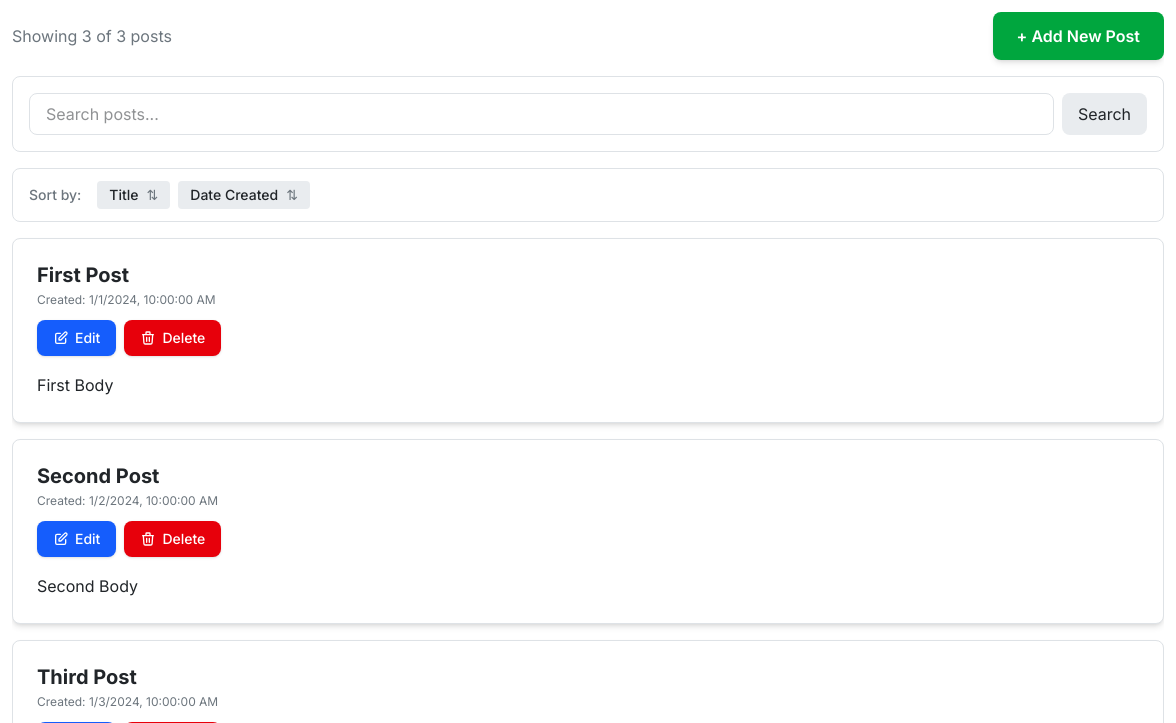
it: PostsTable Component › Empty State › should show "No posts found" when search returns no results
The width and height of the screenshot is (1176, 723).
Expected: the heading "First Post" is shown, [37, 263, 129, 287]
Type "NonExistentPost" into the field with placeholder "Search posts...". click: (541, 114)
box: [29, 93, 1054, 135]
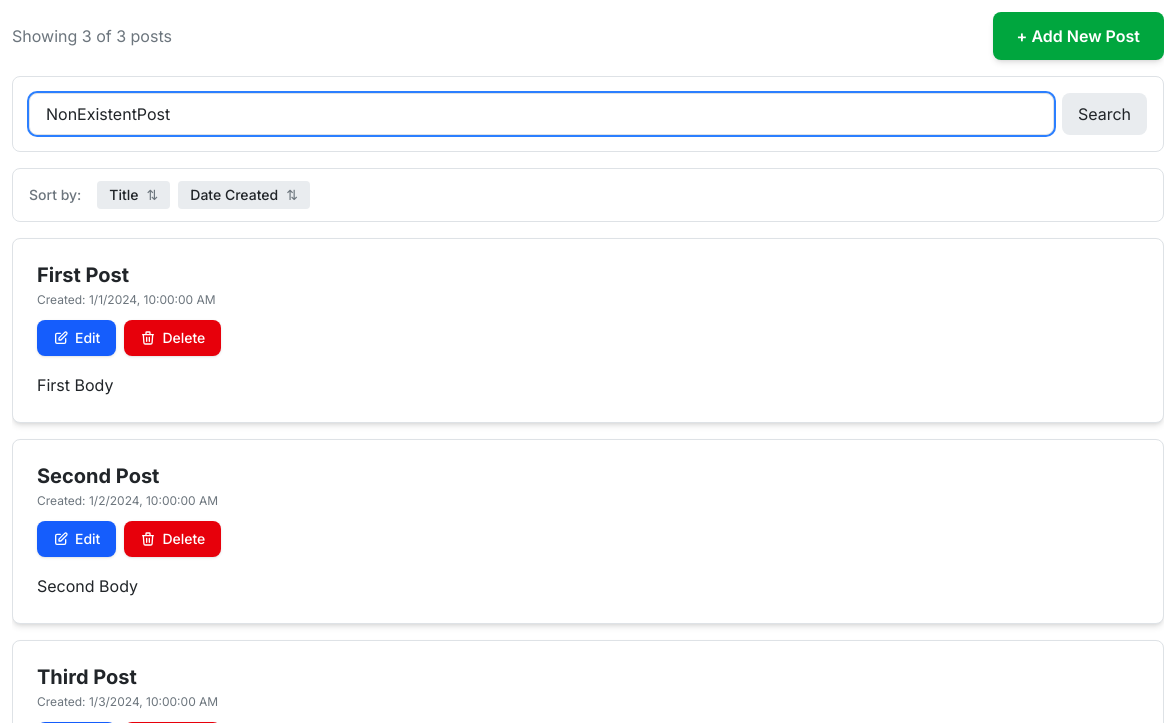
Click the button with aria-label "submit search". click: click(1104, 114)
box: [1062, 93, 1147, 135]
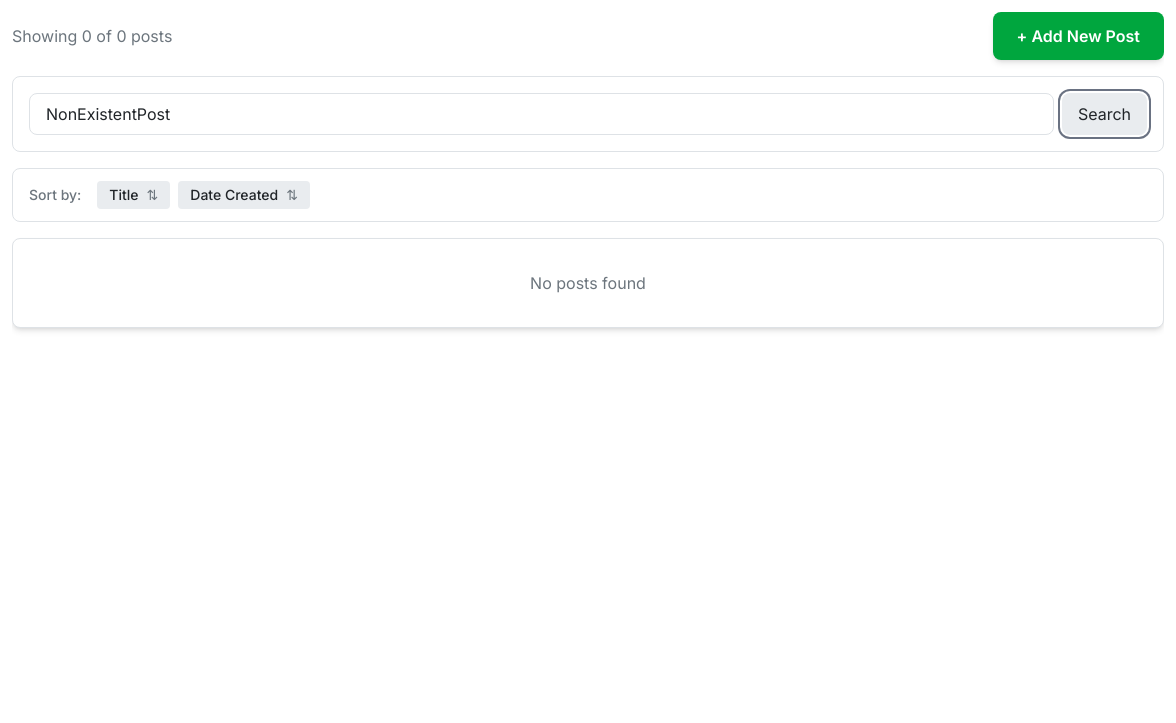
Expected: the text "No posts found" is shown, [12, 238, 1164, 328]
